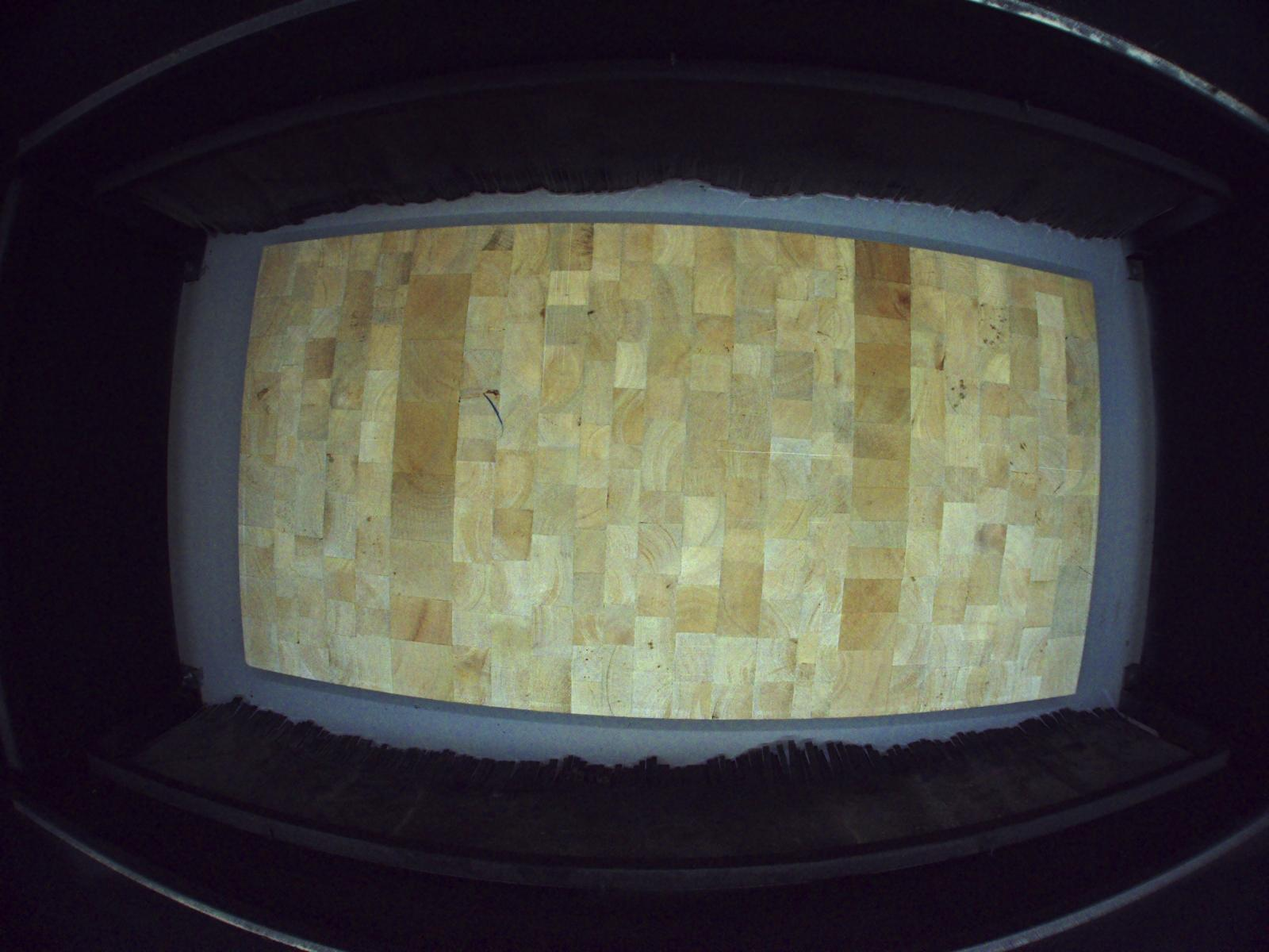nudillo: (458, 388, 501, 404)
